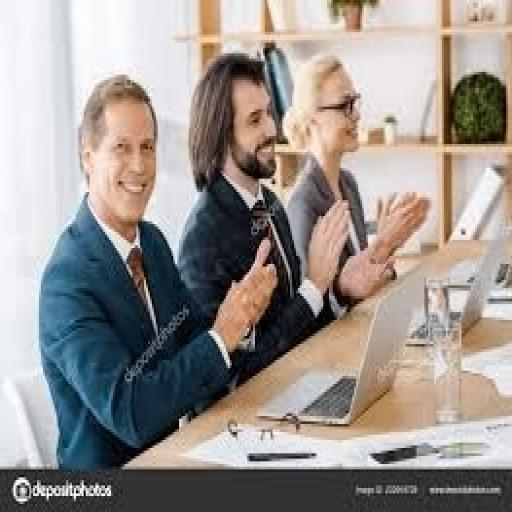clapping: (37, 70, 278, 470), (176, 48, 352, 387), (280, 50, 430, 314)
